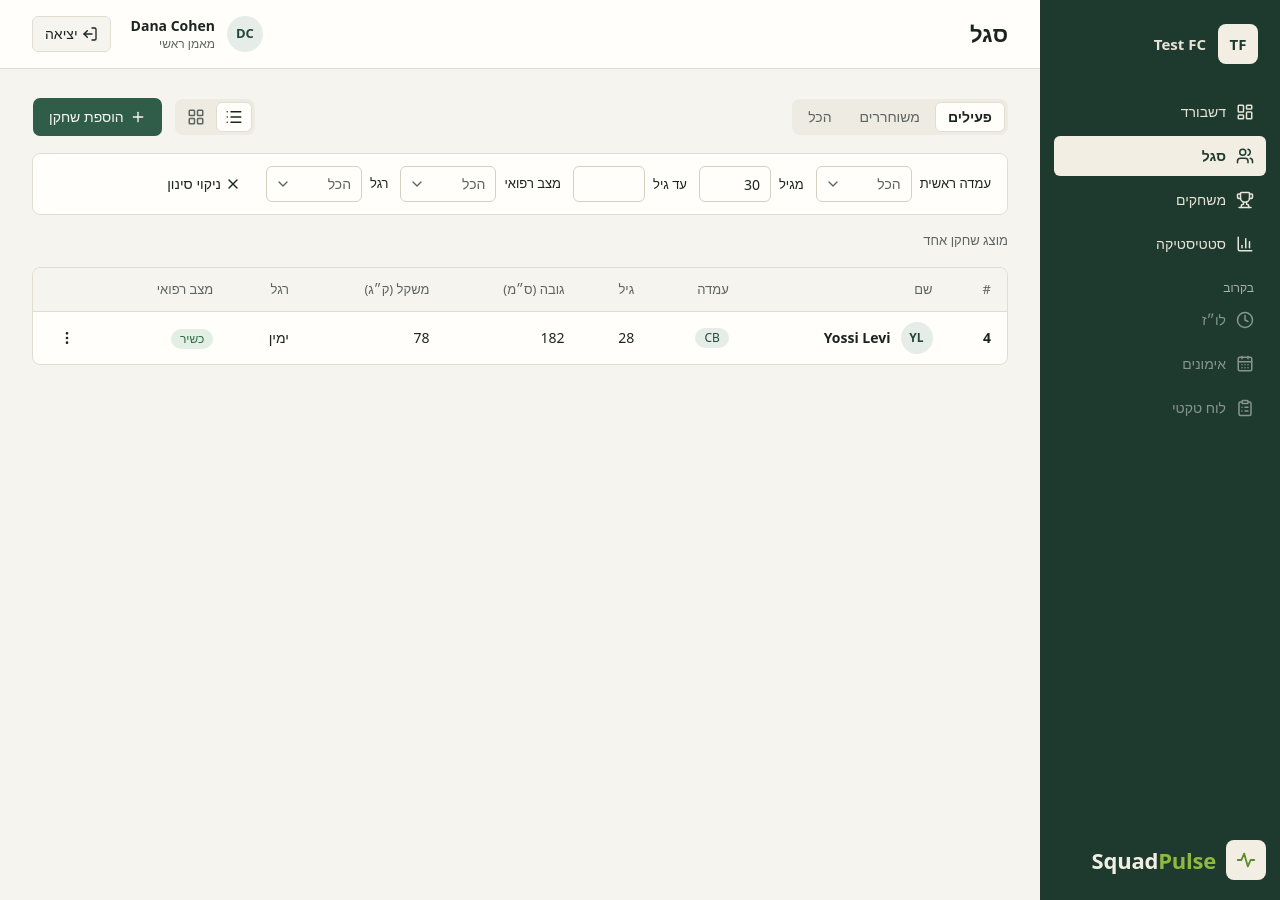
Scenario: the age fields › refuse a minimum above the maximum, keeping the last valid filters, until fixed
This screenshot has width=1280, height=900.
expect the heading "סגל" is shown: met, box [970,20,1008,48]
Step 1. Type "20" into the field labelled "עד גיל" → {"x": 609, "y": 184}, box [573,166,645,202]
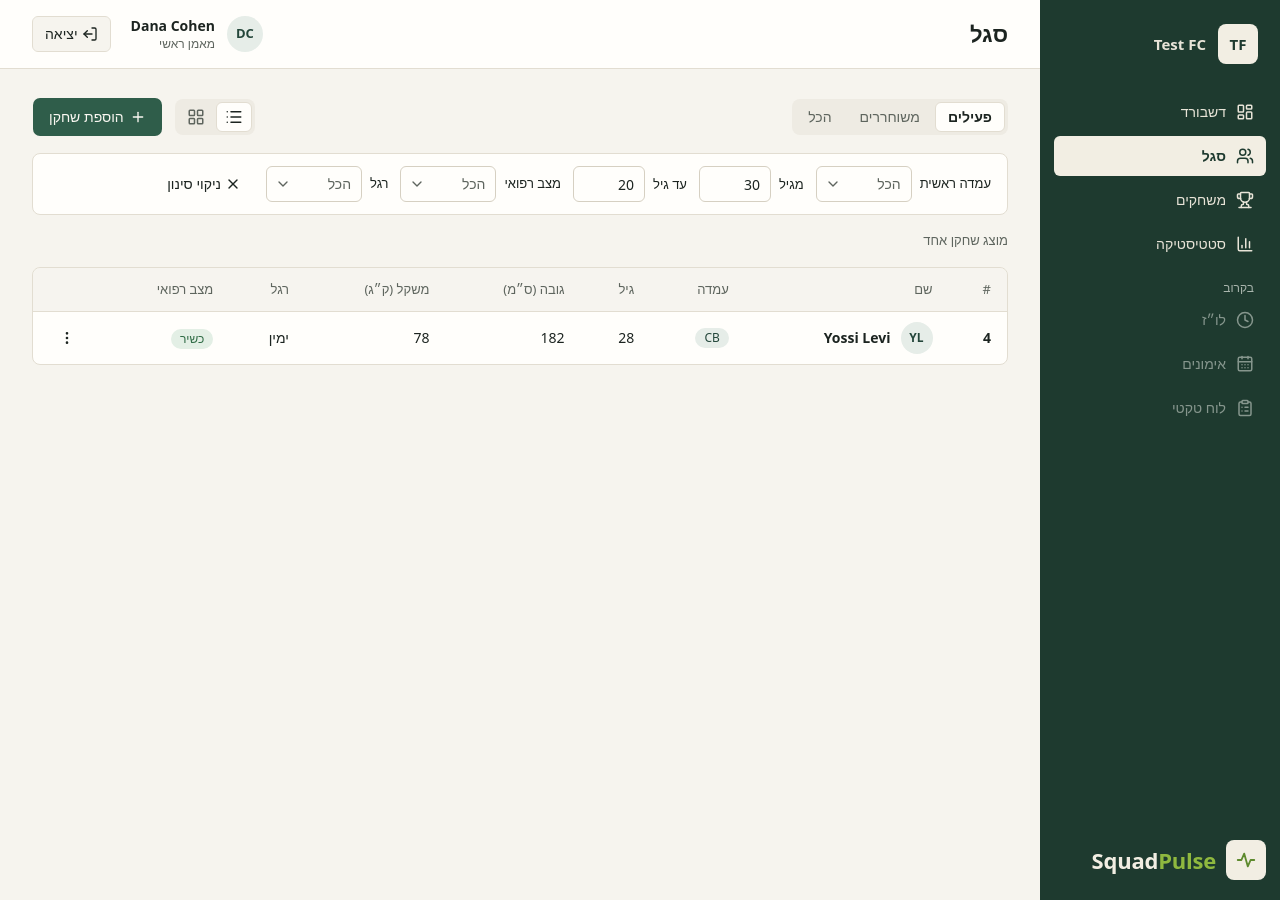
Step 2. Press Enter in the field labelled "עד גיל", box [573,166,645,202]
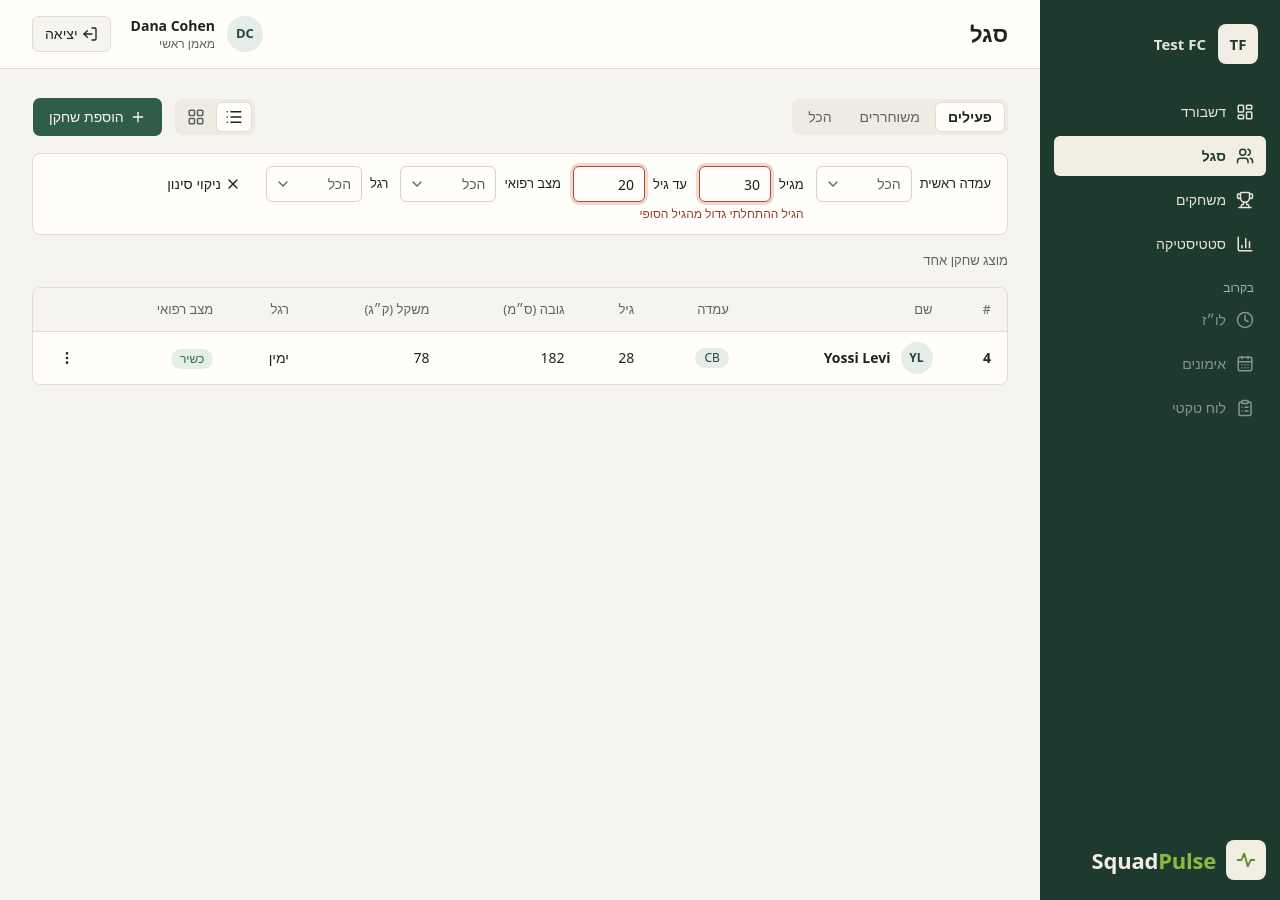
expect the text "הגיל ההתחלתי גדול מהגיל הסופי" is shown: met, box [639,205,804,222]
Step 3. Replace the text in the field labelled "עד גיל" with "40" → {"x": 609, "y": 184}, box [573,166,645,202]
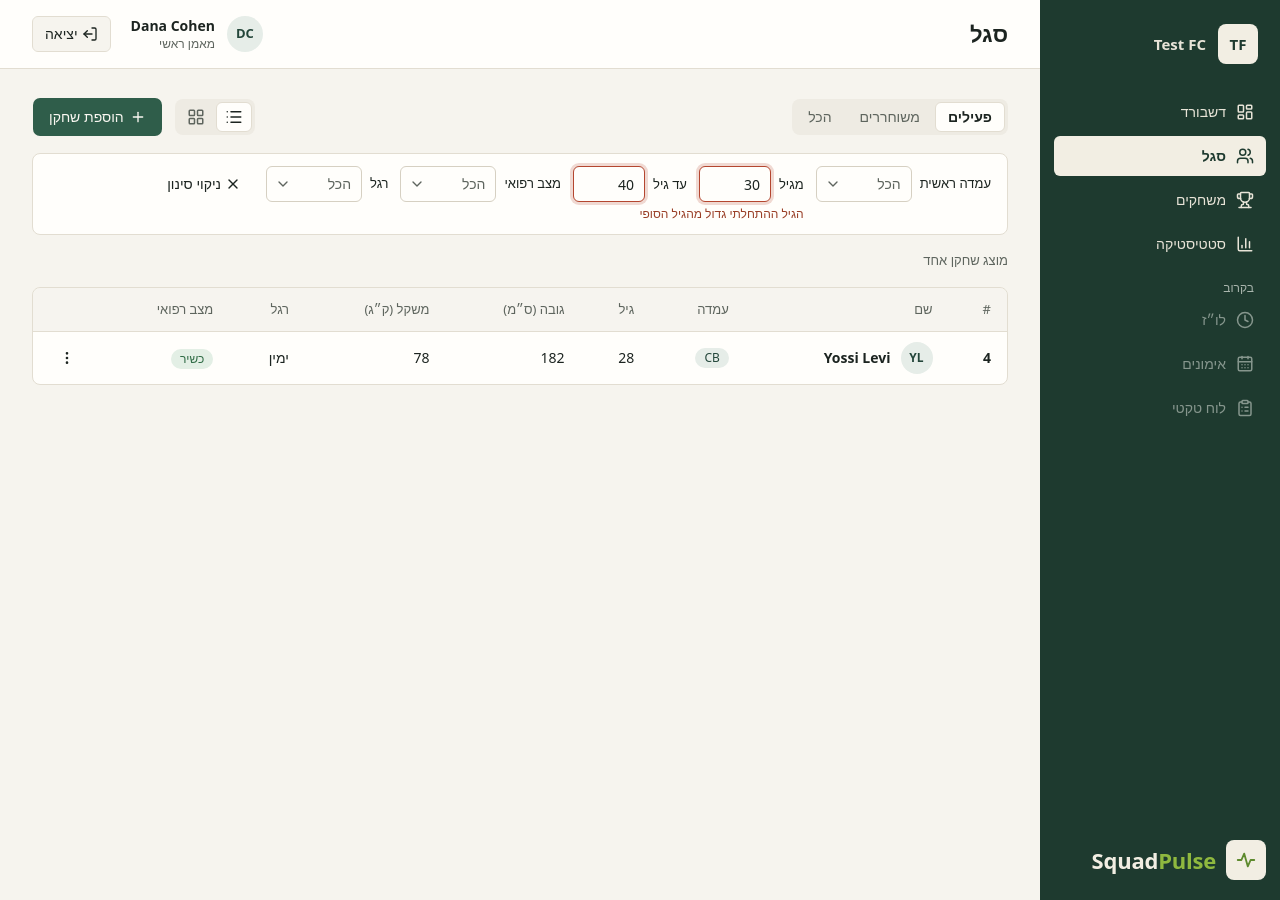
Step 4. Press Enter in the field labelled "עד גיל", box [573,166,645,202]
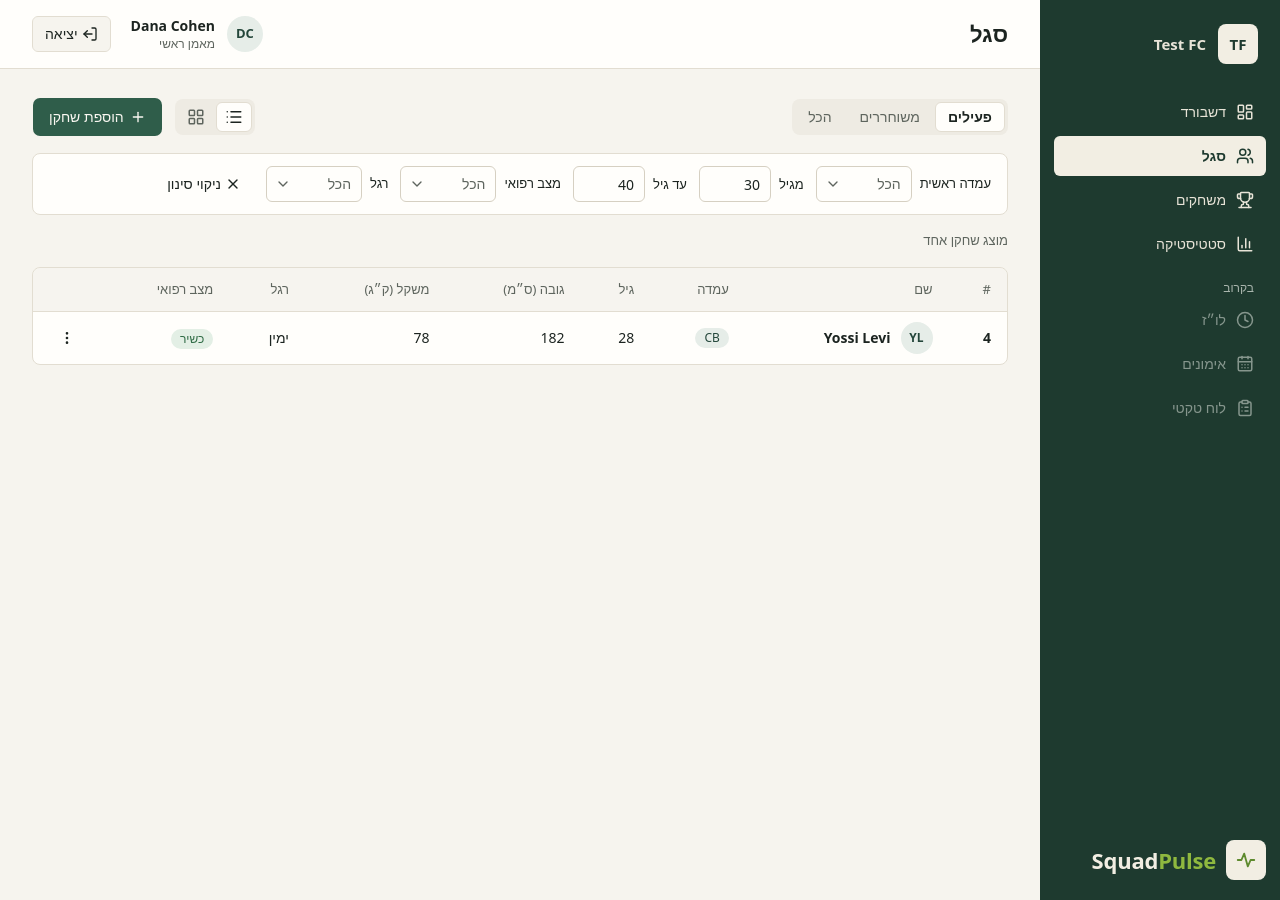
expect the text "הגיל ההתחלתי גדול מהגיל הסופי" is gone: met
